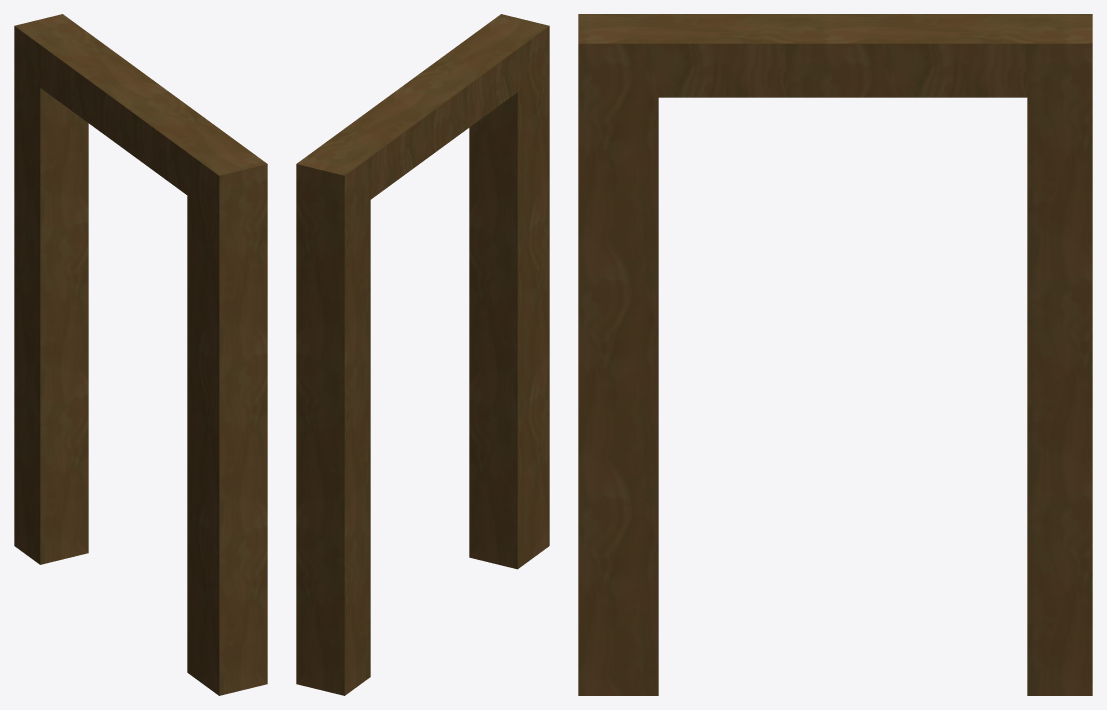
The model's file is kitchen_door.glb.
3 renders of one model, left to right at view 1: azimuth 30°, elevation 25°; view 2: azimuth 150°, elevation 25°; view 3: azimuth 270°, elevation 25°, orthographic. The views are drawn at different scales.
Visible parts, largest first — view 1: framuga; view 2: framuga; view 3: framuga.
Part boxes in pixels (left/top/right/bottom): framuga: left=14, top=14, right=267, bottom=695; framuga: left=296, top=14, right=549, bottom=695; framuga: left=578, top=14, right=1092, bottom=695.
Size of the model in its own units: 0.3142 by 3.22 by 2.3.
1 material, 1 textured.
